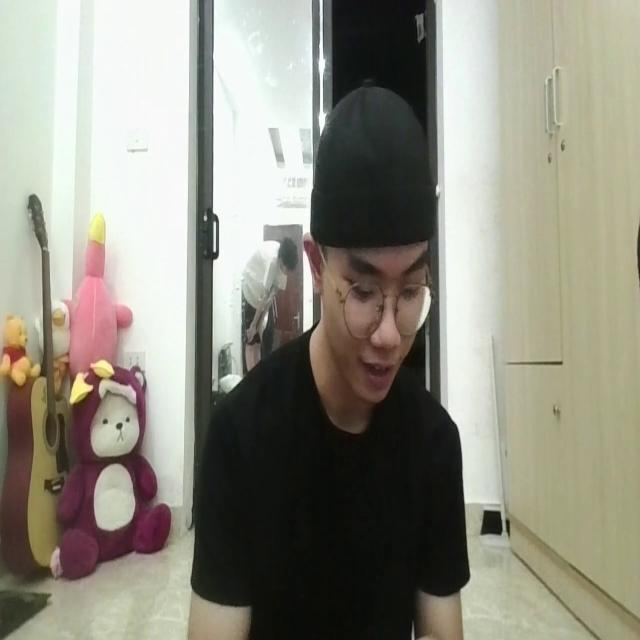extra_person: (242, 221, 292, 368)
student: (190, 83, 472, 640)
